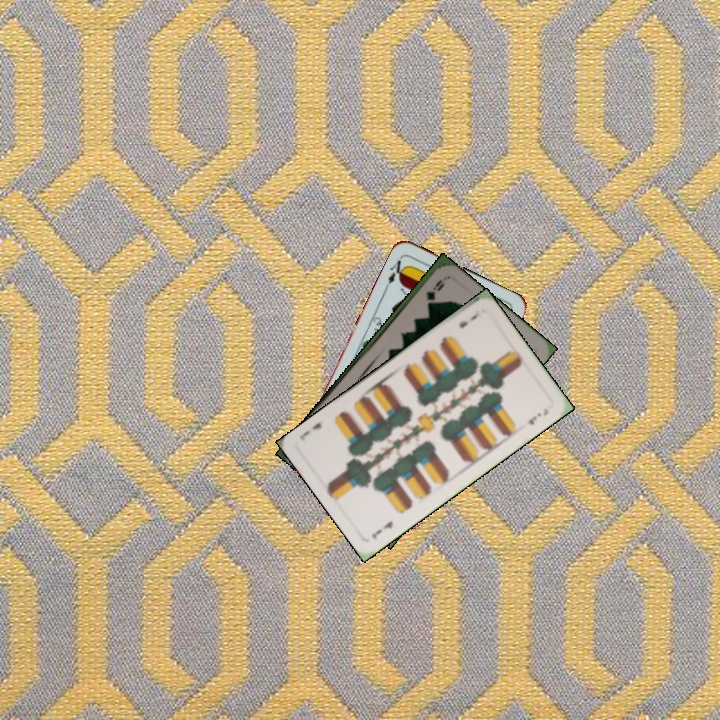E7: (455, 306, 483, 331), (367, 517, 395, 542)
EA: (381, 256, 409, 291)
G9: (422, 275, 446, 303)
